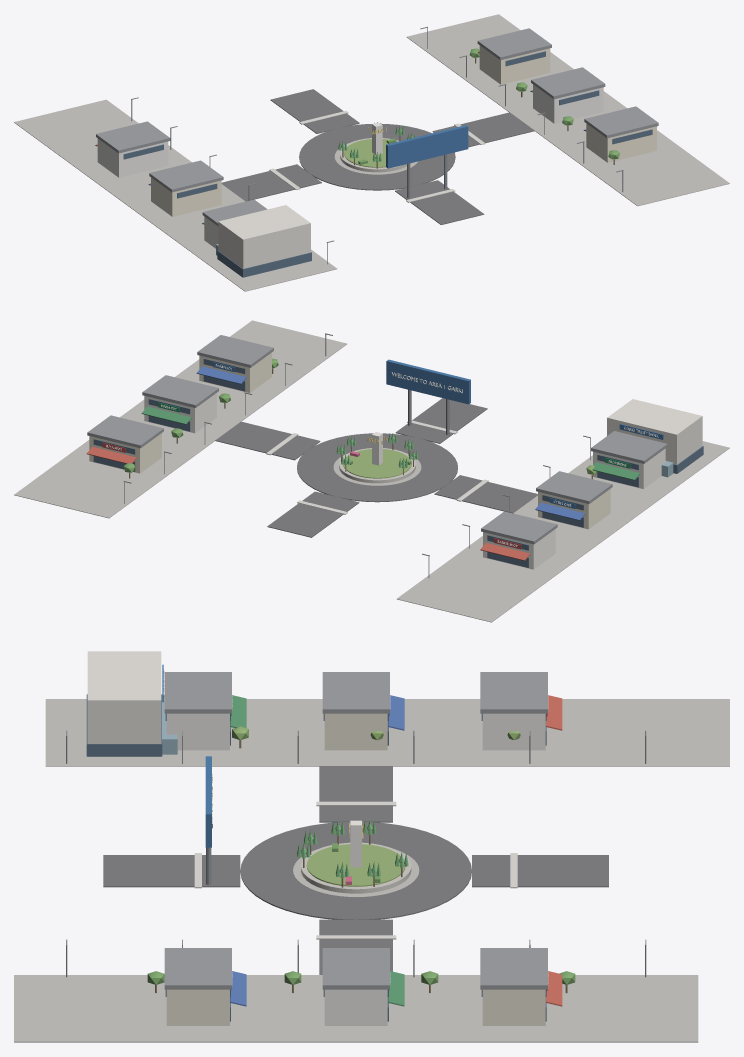
Rendered from garki_area1.glb.
3 renders of one model, top to bottom at view 1: azimuth 30°, elevation 25°; view 2: azimuth 150°, elevation 25°; view 3: azimuth 270°, elevation 25°, orthographic. The views are drawn at different scales.
Parts seen in each view (by area): view 1: BLD_garki_area1; view 2: BLD_garki_area1; view 3: BLD_garki_area1.
Part boxes in pixels (box(x1,y1,x2,y2)): BLD_garki_area1: box(14, 14, 729, 291); BLD_garki_area1: box(14, 320, 729, 622); BLD_garki_area1: box(14, 651, 729, 1042).
Size of the model in its own units: 154 by 18.13 by 136.
